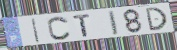8: (123, 8, 144, 35)
C: (47, 15, 72, 41)
D: (144, 6, 168, 32)
I: (107, 10, 120, 37), (30, 17, 41, 44)
T: (72, 13, 92, 38)
